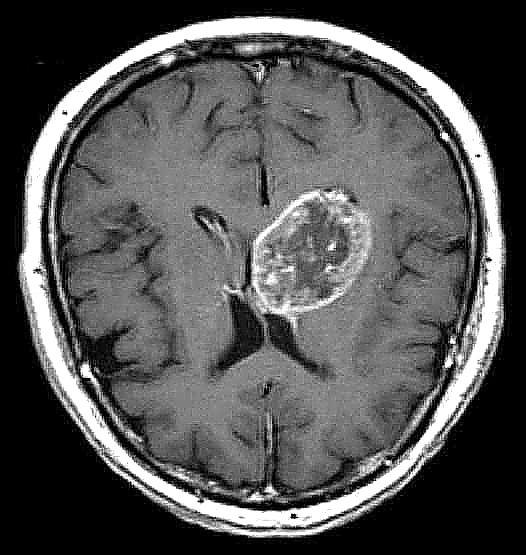Tumor: (239, 188, 380, 316)
